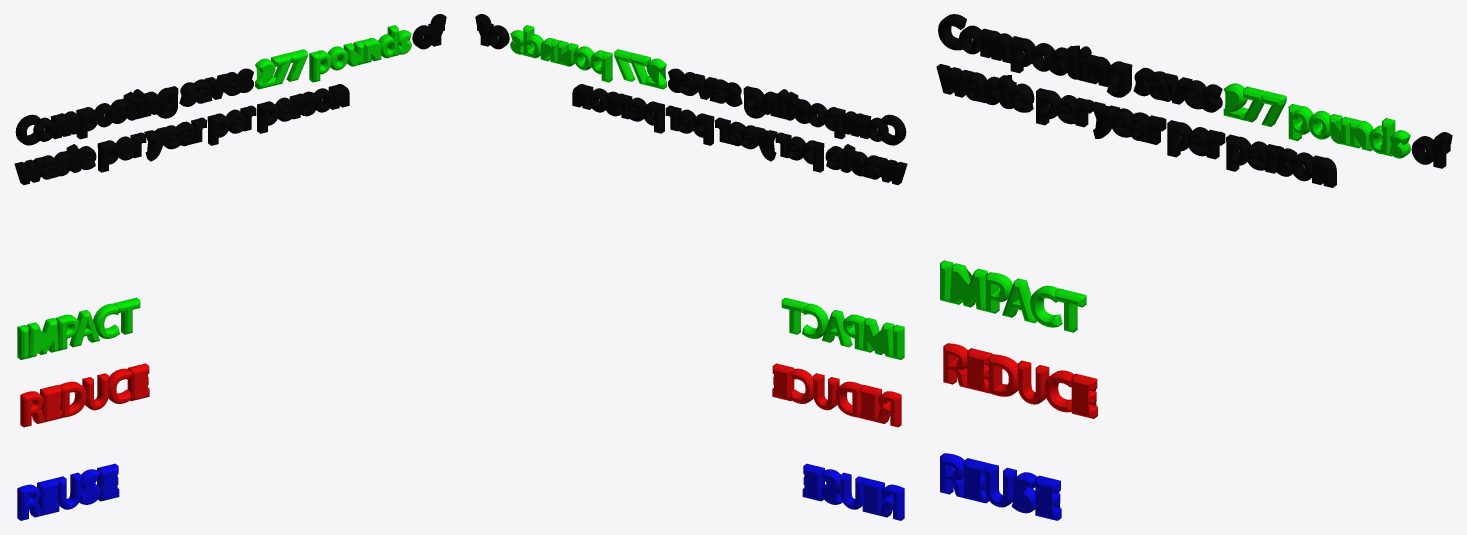
The model's file is positivestats.fbx.
3 renders of one model, left to right at view 1: azimuth 30°, elevation 25°; view 2: azimuth 150°, elevation 25°; view 3: azimuth 330°, elevation 25°, orthographic. The views are drawn at different scales.
Parts seen in each view (by area): view 1: bevelPolygon13, bevelPolygon1, bevelPolygon6, bevelPolygon8, bevelPolygon9, bevelPolygon3, bevelPolygon5, bevelPolygon11, bevelPolygon2, bevelPolygon7, bevelPolygon20, bevelPolygon15 (+16 smaller); view 2: bevelPolygon13, bevelPolygon1, bevelPolygon6, bevelPolygon8, bevelPolygon9, bevelPolygon3, bevelPolygon5, bevelPolygon11, bevelPolygon2, bevelPolygon7, bevelPolygon20, bevelPolygon15 (+16 smaller); view 3: bevelPolygon13, bevelPolygon8, bevelPolygon11, bevelPolygon5, bevelPolygon9, bevelPolygon3, bevelPolygon6, bevelPolygon1, bevelPolygon2, bevelPolygon7, bevelPolygon20, bevelPolygon15 (+23 smaller).
Boxes of the visible parts, left/top/right/bottom form: bevelPolygon13: left=27, top=318, right=59, bottom=357; bevelPolygon1: left=17, top=484, right=41, bottom=520; bevelPolygon6: left=20, top=391, right=45, bottom=427; bevelPolygon8: left=59, top=381, right=86, bottom=417; bevelPolygon9: left=82, top=373, right=108, bottom=410; bevelPolygon3: left=55, top=472, right=81, bottom=509; bevelPolygon5: left=97, top=463, right=119, bottom=501; bevelPolygon11: left=127, top=363, right=149, bottom=401; bevelPolygon2: left=37, top=478, right=59, bottom=515; bevelPolygon7: left=40, top=385, right=61, bottom=422; bevelPolygon20: left=50, top=111, right=80, bottom=139; bevelPolygon15: left=69, top=310, right=99, bottom=347; bevelPolygon13: left=862, top=318, right=894, bottom=357; bevelPolygon1: left=879, top=484, right=904, bottom=520; bevelPolygon6: left=877, top=391, right=901, bottom=427; bevelPolygon8: left=835, top=381, right=862, bottom=417; bevelPolygon9: left=813, top=373, right=839, bottom=410; bevelPolygon3: left=840, top=472, right=866, bottom=509; bevelPolygon5: left=802, top=463, right=824, bottom=501; bevelPolygon11: left=772, top=363, right=794, bottom=401; bevelPolygon2: left=862, top=478, right=884, bottom=515; bevelPolygon7: left=860, top=385, right=881, bottom=422; bevelPolygon20: left=841, top=111, right=871, bottom=139; bevelPolygon15: left=822, top=310, right=852, bottom=347; bevelPolygon13: left=949, top=263, right=987, bottom=311; bevelPolygon8: left=988, top=354, right=1018, bottom=396; bevelPolygon11: left=1071, top=373, right=1097, bottom=418; bevelPolygon5: left=1035, top=475, right=1061, bottom=520; bevelPolygon9: left=1017, top=360, right=1049, bottom=404; bevelPolygon3: left=985, top=463, right=1016, bottom=507; bevelPolygon6: left=943, top=343, right=967, bottom=387; bevelPolygon1: left=940, top=453, right=965, bottom=498; bevelPolygon2: left=963, top=458, right=988, bottom=503; bevelPolygon7: left=967, top=348, right=992, bottom=393; bevelPolygon20: left=980, top=28, right=1011, bottom=63; bevelPolygon15: left=1002, top=278, right=1037, bottom=323.
Size of the model in its own units: 0.1779 by 0.1594 by 0.0045.
